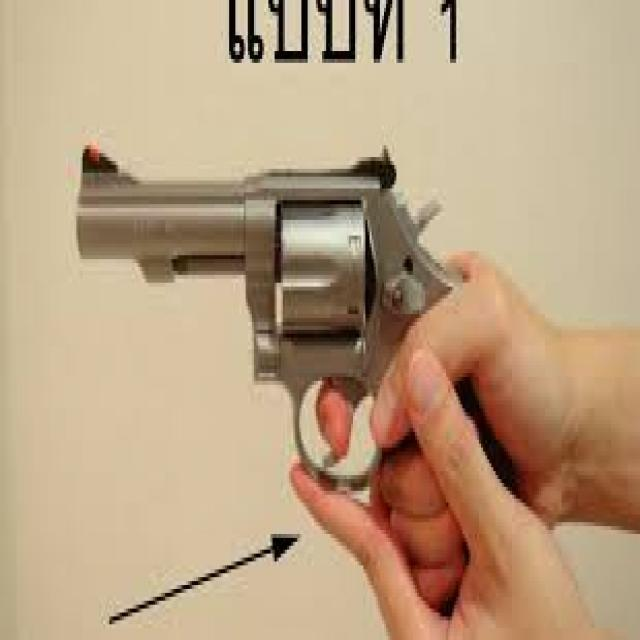semi automatic: (69, 130, 596, 632)
